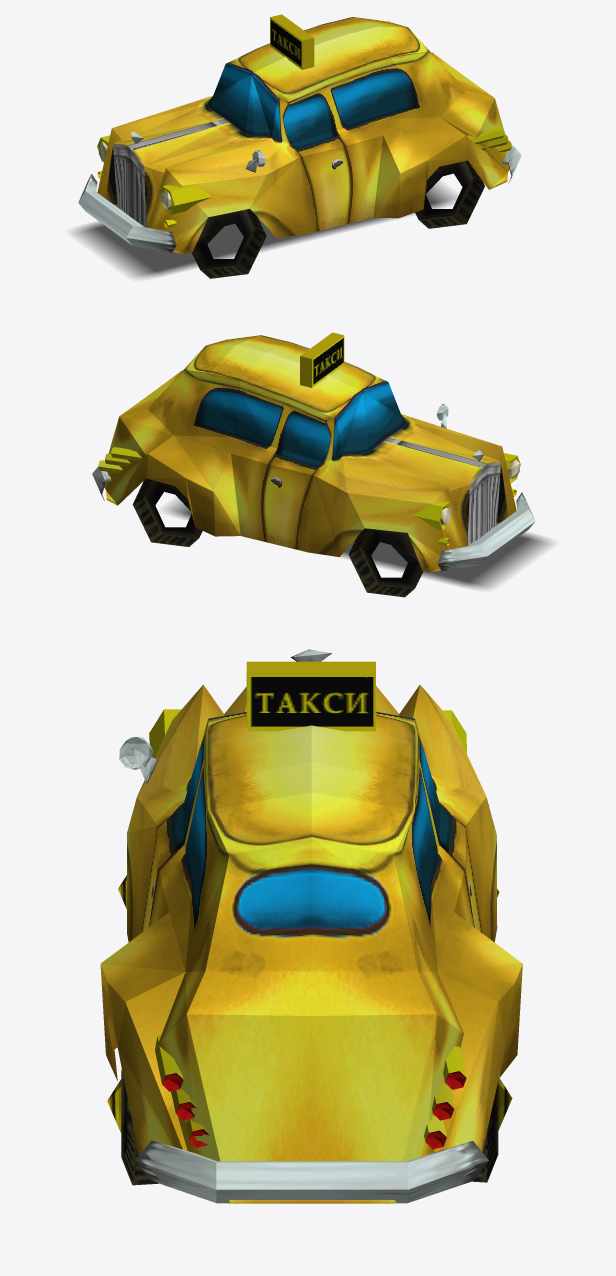
The model's file is taxi_new_2839.glb.
3 views of the same model, one above another, from view 1: azimuth 30°, elevation 25°; view 2: azimuth 150°, elevation 25°; view 3: azimuth 270°, elevation 25° (orthographic). The views are drawn at different scales.
Parts seen in each view (by area): view 1: polySurfaceShape9, polySurfaceShape12, pPlaneShape7, vrlShape, pCylinderShape3, hrlShape, pPlaneShape8, pConeShape1, pCubeShape1, polySurfaceShape10; view 2: polySurfaceShape9, polySurfaceShape11, pPlaneShape7, vrrShape, pCylinderShape3, hrrShape, pPlaneShape8, pCubeShape1, pConeShape2, polySurfaceShape10; view 3: polySurfaceShape9, polySurfaceShape10, pCylinderShape4, pPlaneShape9, polySurfaceShape12, polySurfaceShape11, hrlShape, pCubeShape1, hrrShape, pConeShape11.
Boxes of the visible parts, x1=… form: polySurfaceShape9: x1=97, y1=17, x2=509, y2=254; polySurfaceShape12: x1=277, y1=78, x2=347, y2=233; pPlaneShape7: x1=74, y1=183, x2=456, y2=277; vrlShape: x1=192, y1=209, x2=266, y2=278; pCylinderShape3: x1=78, y1=174, x2=176, y2=252; hrlShape: x1=415, y1=160, x2=484, y2=228; pPlaneShape8: x1=270, y1=17, x2=302, y2=69; pConeShape1: x1=160, y1=185, x2=210, y2=214; pCubeShape1: x1=270, y1=14, x2=314, y2=69; polySurfaceShape10: x1=431, y1=52, x2=493, y2=97; polySurfaceShape9: x1=104, y1=335, x2=516, y2=572; polySurfaceShape11: x1=267, y1=396, x2=336, y2=552; pPlaneShape7: x1=166, y1=499, x2=550, y2=588; vrrShape: x1=348, y1=528, x2=423, y2=597; pCylinderShape3: x1=437, y1=492, x2=535, y2=570; hrrShape: x1=132, y1=478, x2=202, y2=546; pPlaneShape8: x1=312, y1=336, x2=344, y2=387; pCubeShape1: x1=300, y1=332, x2=343, y2=387; pConeShape2: x1=413, y1=501, x2=449, y2=530; polySurfaceShape10: x1=120, y1=370, x2=182, y2=415; polySurfaceShape9: x1=100, y1=684, x2=522, y2=1203; polySurfaceShape10: x1=186, y1=971, x2=436, y2=1203; pCylinderShape4: x1=135, y1=1140, x2=488, y2=1203; pPlaneShape9: x1=246, y1=673, x2=375, y2=731; polySurfaceShape12: x1=140, y1=720, x2=208, y2=933; polySurfaceShape11: x1=415, y1=719, x2=483, y2=933; hrlShape: x1=107, y1=1069, x2=158, y2=1185; pCubeShape1: x1=246, y1=661, x2=375, y2=673; hrrShape: x1=472, y1=1077, x2=512, y2=1182; pConeShape11: x1=155, y1=1035, x2=183, y2=1091.
Bounding box in the file's own units: 0.7111 × 0.2882 × 0.3333.
41 materials, 32 textured.
